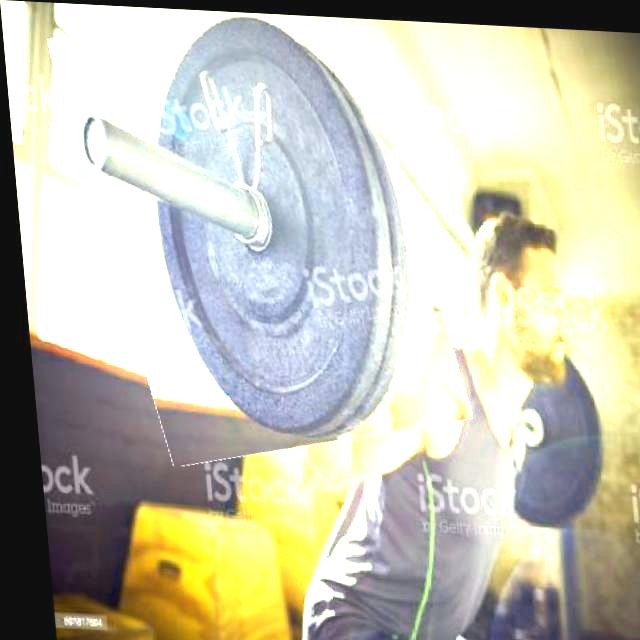barbell: (65, 4, 449, 462)
